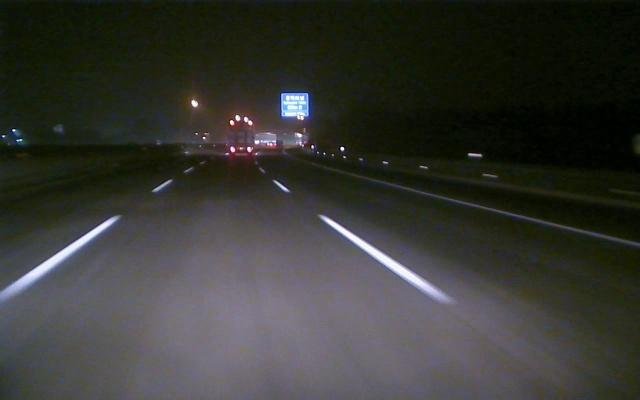lane: (274, 181, 459, 303), (349, 173, 637, 249), (3, 181, 170, 301)
